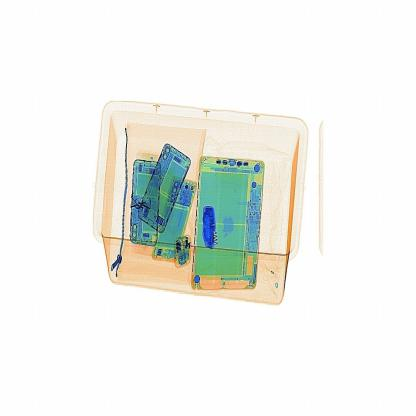scissors: (200, 196, 232, 260)
